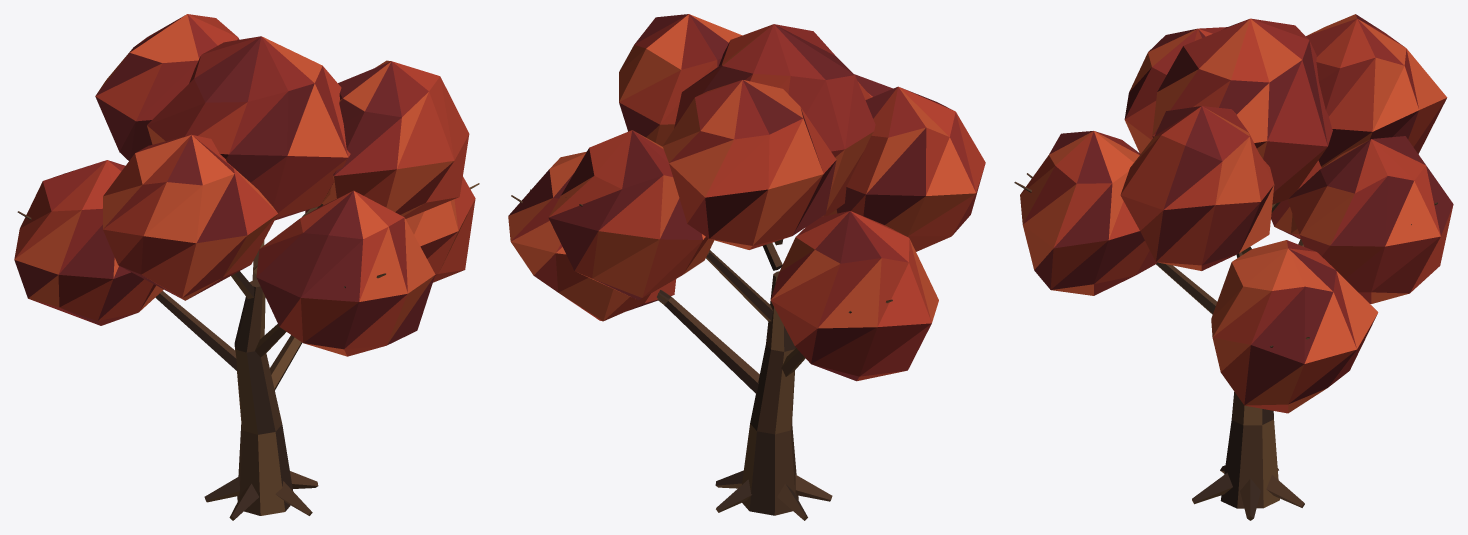
Rendered from tree_rowan_red.obj.
The picture shows the model from 3 angles, left to right: view 1: azimuth 30°, elevation 25°; view 2: azimuth 150°, elevation 25°; view 3: azimuth 270°, elevation 25°; orthographic projection. The views are drawn at different scales.
Parts seen in each view (by area): view 1: tree_rowan_red; view 2: tree_rowan_red; view 3: tree_rowan_red.
Part boxes in pixels (x1,y1,x2,y2): tree_rowan_red: [14, 14, 479, 520]; tree_rowan_red: [508, 14, 985, 520]; tree_rowan_red: [1014, 14, 1453, 520].
Bounding box in the file's own units: 329 × 340 × 283.
1 material, 1 textured.
